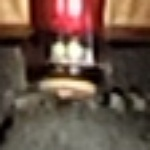bottle: (15, 27, 125, 132)
